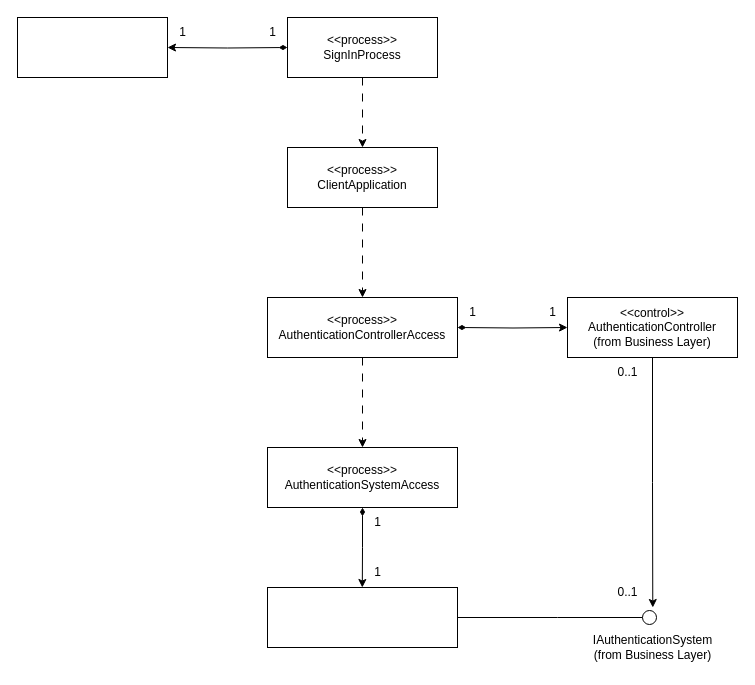
Image size: 755x685. Some labels were removed from this diagram. The shapes that lost their labels are listed below. From the top down, each one's box as (x1, y1, x2, y2) in pixels, then its label:
(16, 16, 168, 78): <<boundary>> SignInForm (from Presentation Layer)
(266, 586, 458, 648): <<subsystem proxy>> AuthenticationSystem (from Business Layer)
